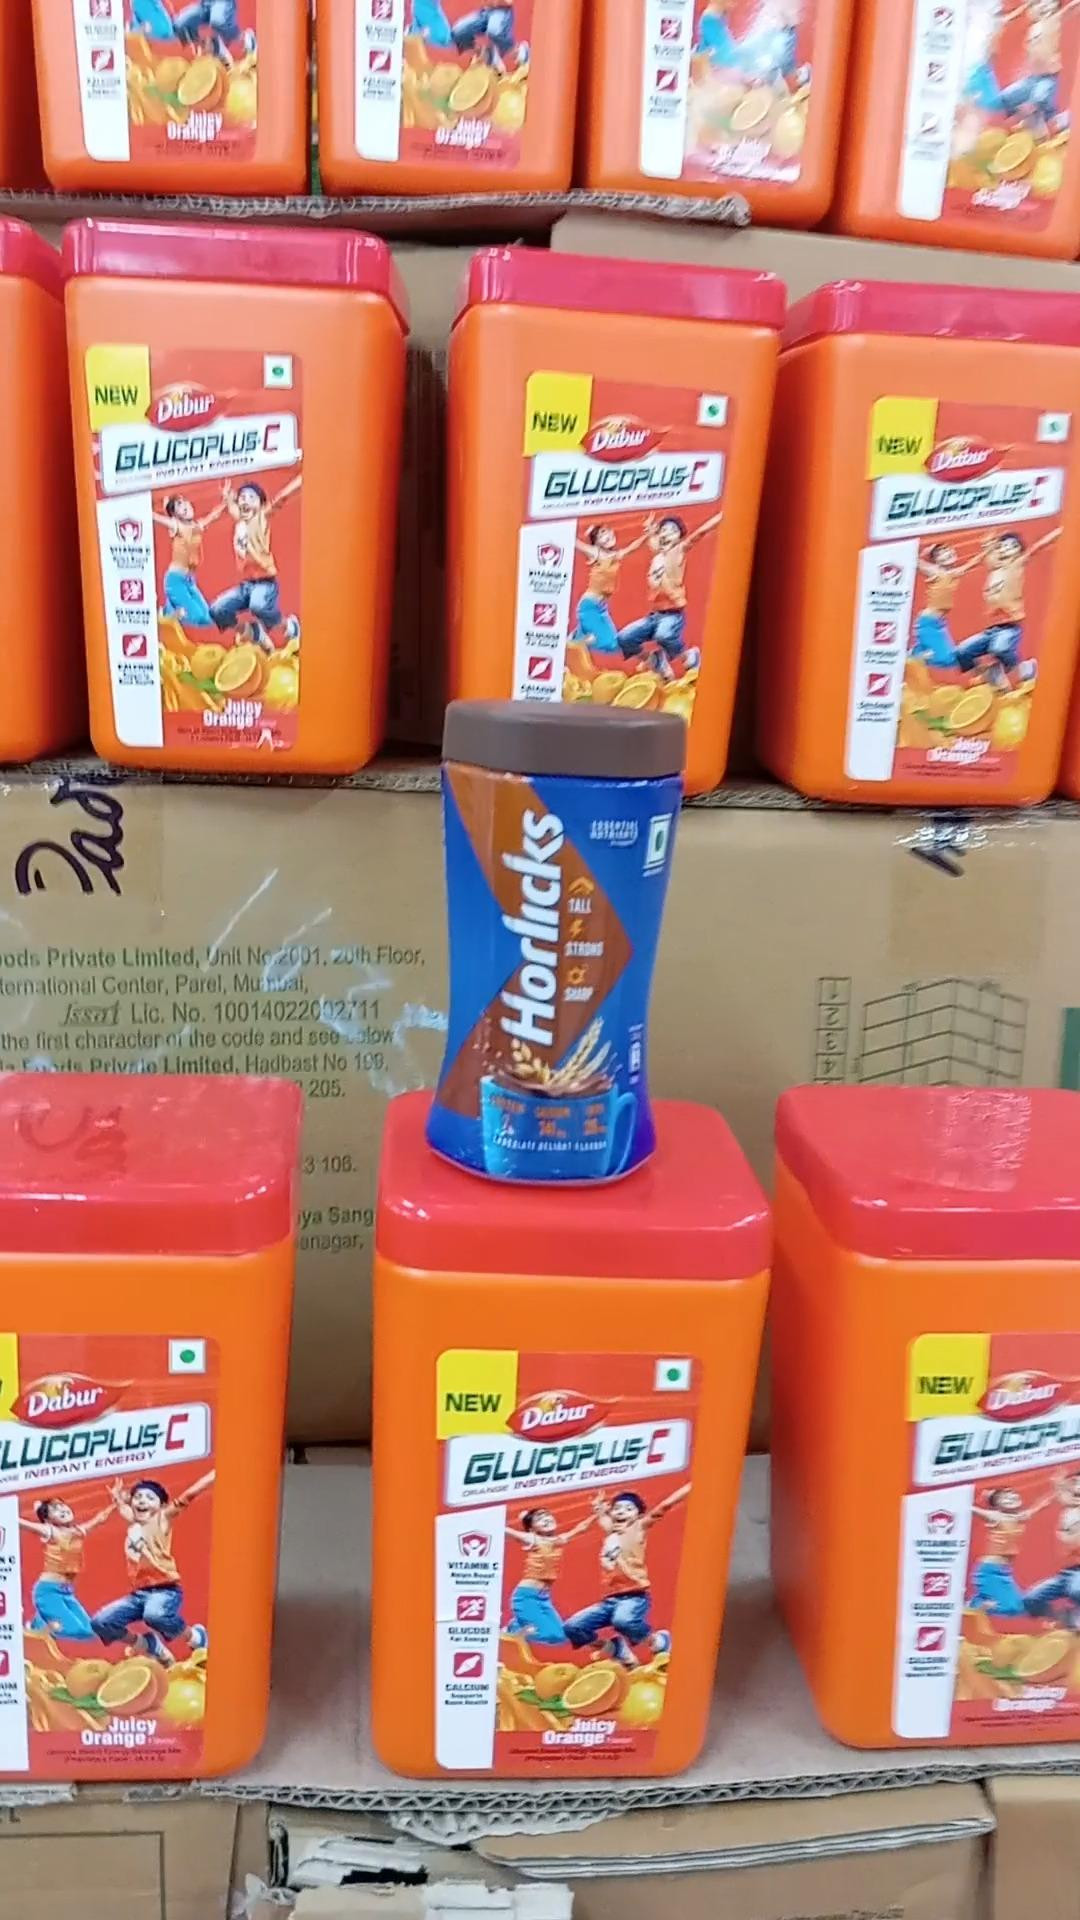HORLICK_CHOCOLATE_200_G_JAR: (430, 666, 666, 1197)
